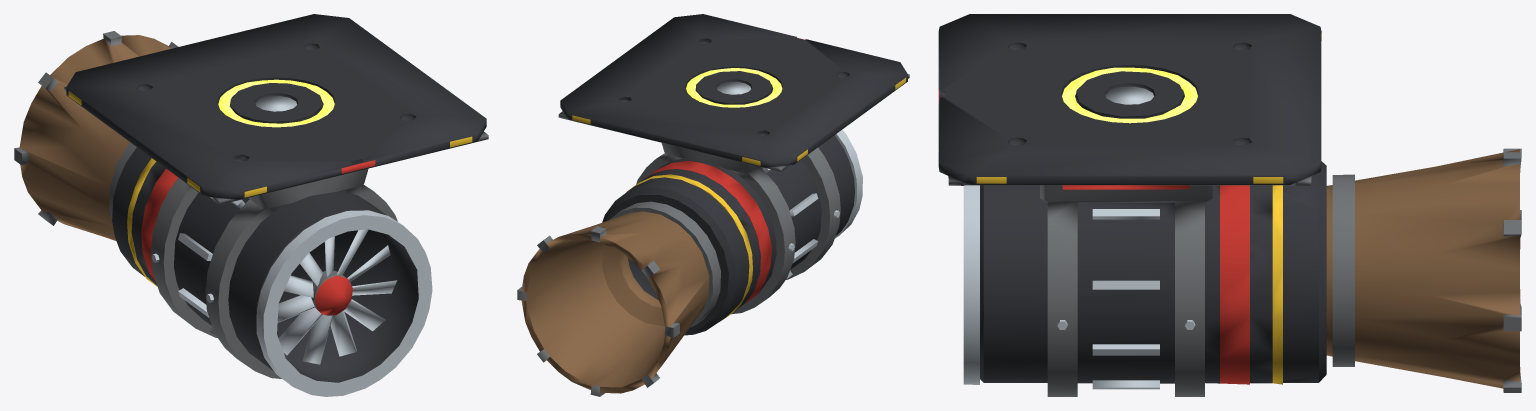
The model's file is R4M_Booster_LOD1.fbx.
3 views of the same model, side by side, from view 1: azimuth 30°, elevation 25°; view 2: azimuth 150°, elevation 25°; view 3: azimuth 270°, elevation 25° (orthographic). The views are drawn at different scales.
Visible parts, largest first — view 1: R4M_Booster_Housing_LOD1, R4M_Booster_Turbine_LOD1; view 2: R4M_Booster_Housing_LOD1; view 3: R4M_Booster_Housing_LOD1.
Part boxes in pixels (x1=…): R4M_Booster_Housing_LOD1: x1=14, y1=14, x2=488, y2=396; R4M_Booster_Turbine_LOD1: x1=277, y1=229, x2=397, y2=364; R4M_Booster_Housing_LOD1: x1=517, y1=14, x2=909, y2=396; R4M_Booster_Housing_LOD1: x1=938, y1=14, x2=1521, y2=396.
Size of the model in its own units: 0.5108 by 0.4297 by 0.7774.
